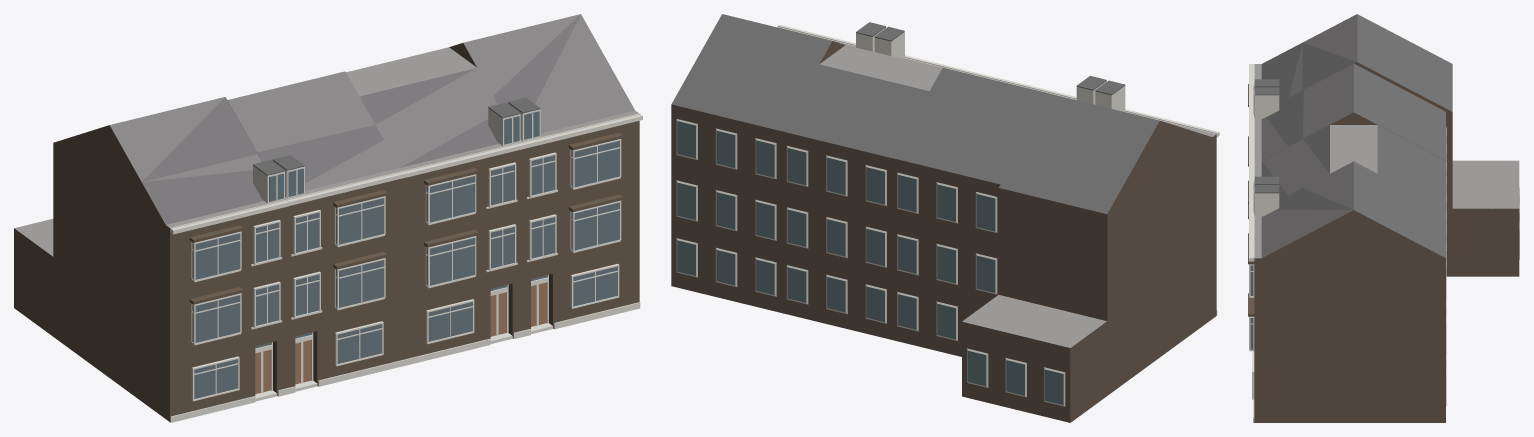
File: chunk-face-treslong-5-19-b.glb
The picture shows the model from 3 angles, left to right: view 1: azimuth 30°, elevation 25°; view 2: azimuth 150°, elevation 25°; view 3: azimuth 270°, elevation 25°; orthographic projection. The views are drawn at different scales.
Parts seen in each view (by area): view 1: face-treslong-5-19-b; view 2: face-treslong-5-19-b; view 3: face-treslong-5-19-b.
Boxes of the visible parts, x1,y1,x2,y2 form: face-treslong-5-19-b: [14, 14, 642, 422]; face-treslong-5-19-b: [671, 14, 1219, 422]; face-treslong-5-19-b: [1248, 14, 1519, 422].
Size of the model in its own units: 25.1 by 12.93 by 14.84.
